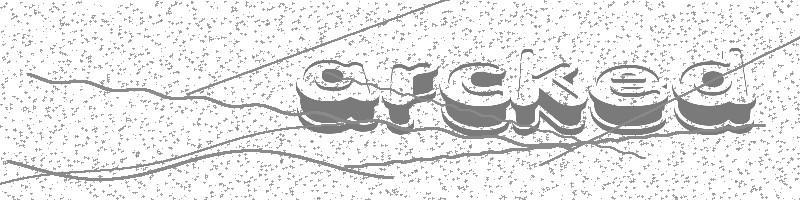a: (291, 56, 382, 135)
c: (439, 59, 512, 138)
d: (668, 46, 759, 137)
e: (587, 62, 670, 137)
k: (510, 47, 588, 137)
r: (385, 60, 438, 137)
